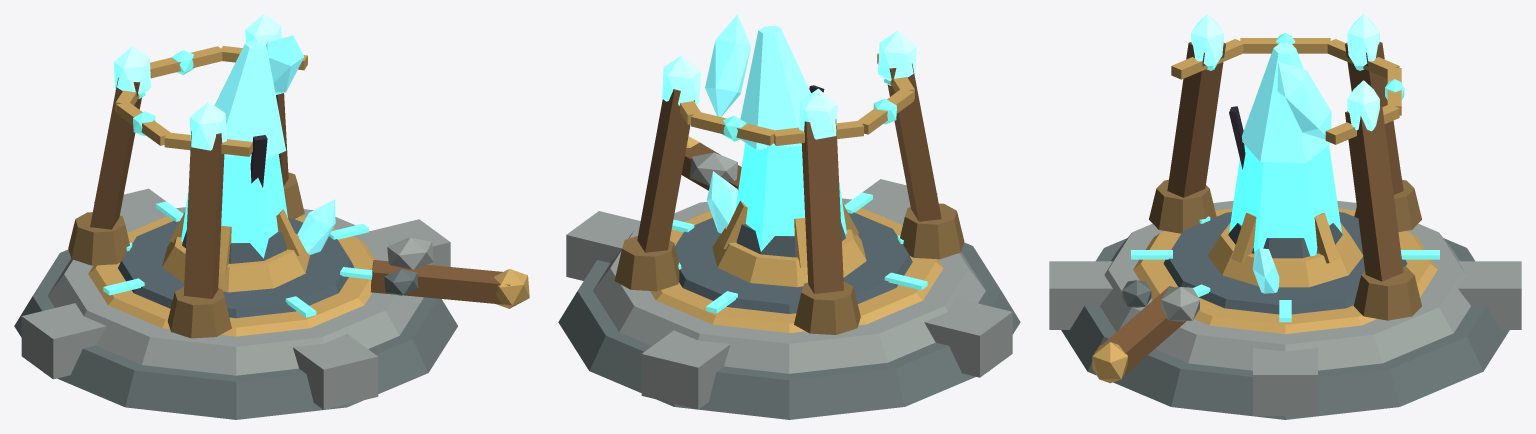
Rendered from ward_damaged.glb.
The picture shows the model from 3 angles, left to right: view 1: azimuth 30°, elevation 25°; view 2: azimuth 150°, elevation 25°; view 3: azimuth 270°, elevation 25°; orthographic projection. The views are drawn at different scales.
Visible parts, largest first — view 1: Ward_Foundation_Base.002, Ward_Foundation_Upper.002, Ward_Foundation_Core.002, Ward_Foundation_Inlay.002, Ward_Support_3.001, Ward_Crystal_Upper, Ward_Crystal_Lower, Ward_Foundation_Buttress_4.002, Ward_Foundation_Buttress_3.002, Ward_Fallen_Support_4, Ward_Foundation_Socket.002, Ward_Support_2.001 (+21 smaller); view 2: Ward_Foundation_Base.002, Ward_Foundation_Upper.002, Ward_Foundation_Core.002, Ward_Foundation_Inlay.002, Ward_Support_2.001, Ward_Crystal_Lower, Ward_Crystal_Upper, Ward_Foundation_Buttress_2.002, Ward_Support_1.001, Ward_Foundation_Buttress_3.002, Ward_Foundation_Socket.002, Ward_Support_3.001 (+19 smaller); view 3: Ward_Foundation_Base.002, Ward_Foundation_Upper.002, Ward_Crystal_Lower, Ward_Foundation_Core.002, Ward_Foundation_Inlay.002, Ward_Support_1.001, Ward_Support_3.001, Ward_Crystal_Upper, Ward_Foundation_Buttress_1.002, Ward_Foundation_Socket.002, Ward_Foundation_Buttress_2.002, Ward_Foundation_Buttress_4.002 (+22 smaller).
Part boxes in pixels (<box>): Ward_Foundation_Base.002: <box>14,249,457,419</box>; Ward_Foundation_Upper.002: <box>47,207,423,375</box>; Ward_Foundation_Core.002: <box>118,218,354,318</box>; Ward_Foundation_Inlay.002: <box>88,216,374,336</box>; Ward_Support_3.001: <box>183,131,224,298</box>; Ward_Crystal_Upper: <box>214,41,285,159</box>; Ward_Crystal_Lower: <box>181,154,287,258</box>; Ward_Foundation_Buttress_4.002: <box>293,334,378,409</box>; Ward_Foundation_Buttress_3.002: <box>21,303,106,379</box>; Ward_Fallen_Support_4: <box>370,260,509,304</box>; Ward_Foundation_Socket.002: <box>162,233,309,292</box>; Ward_Support_2.001: <box>90,77,141,229</box>; Ward_Foundation_Base.002: <box>558,242,1020,419</box>; Ward_Foundation_Upper.002: <box>593,198,985,373</box>; Ward_Foundation_Core.002: <box>675,212,912,313</box>; Ward_Foundation_Inlay.002: <box>650,208,943,333</box>; Ward_Support_2.001: <box>801,119,843,293</box>; Ward_Crystal_Lower: <box>735,143,846,251</box>; Ward_Crystal_Upper: <box>740,25,810,149</box>; Ward_Foundation_Buttress_2.002: <box>641,330,730,409</box>; Ward_Support_1.001: <box>637,89,694,252</box>; Ward_Foundation_Buttress_3.002: <box>924,298,1012,377</box>; Ward_Foundation_Socket.002: <box>712,226,866,287</box>; Ward_Support_3.001: <box>887,63,941,221</box>; Ward_Foundation_Base.002: <box>1061,238,1509,419</box>; Ward_Foundation_Upper.002: <box>1100,201,1470,370</box>; Ward_Crystal_Lower: <box>1229,144,1341,255</box>; Ward_Foundation_Core.002: <box>1163,212,1407,314</box>; Ward_Foundation_Inlay.002: <box>1133,208,1437,333</box>; Ward_Support_1.001: <box>1345,106,1403,281</box>; Ward_Support_3.001: <box>1167,42,1225,197</box>; Ward_Crystal_Upper: <box>1242,43,1330,163</box>; Ward_Foundation_Buttress_1.002: <box>1253,348,1317,416</box>; Ward_Foundation_Socket.002: <box>1207,223,1363,287</box>; Ward_Foundation_Buttress_2.002: <box>1458,261,1521,329</box>; Ward_Foundation_Buttress_4.002: <box>1049,261,1112,329</box>.
Size of the model in its own units: 2.53 by 1.67 by 2.48.
